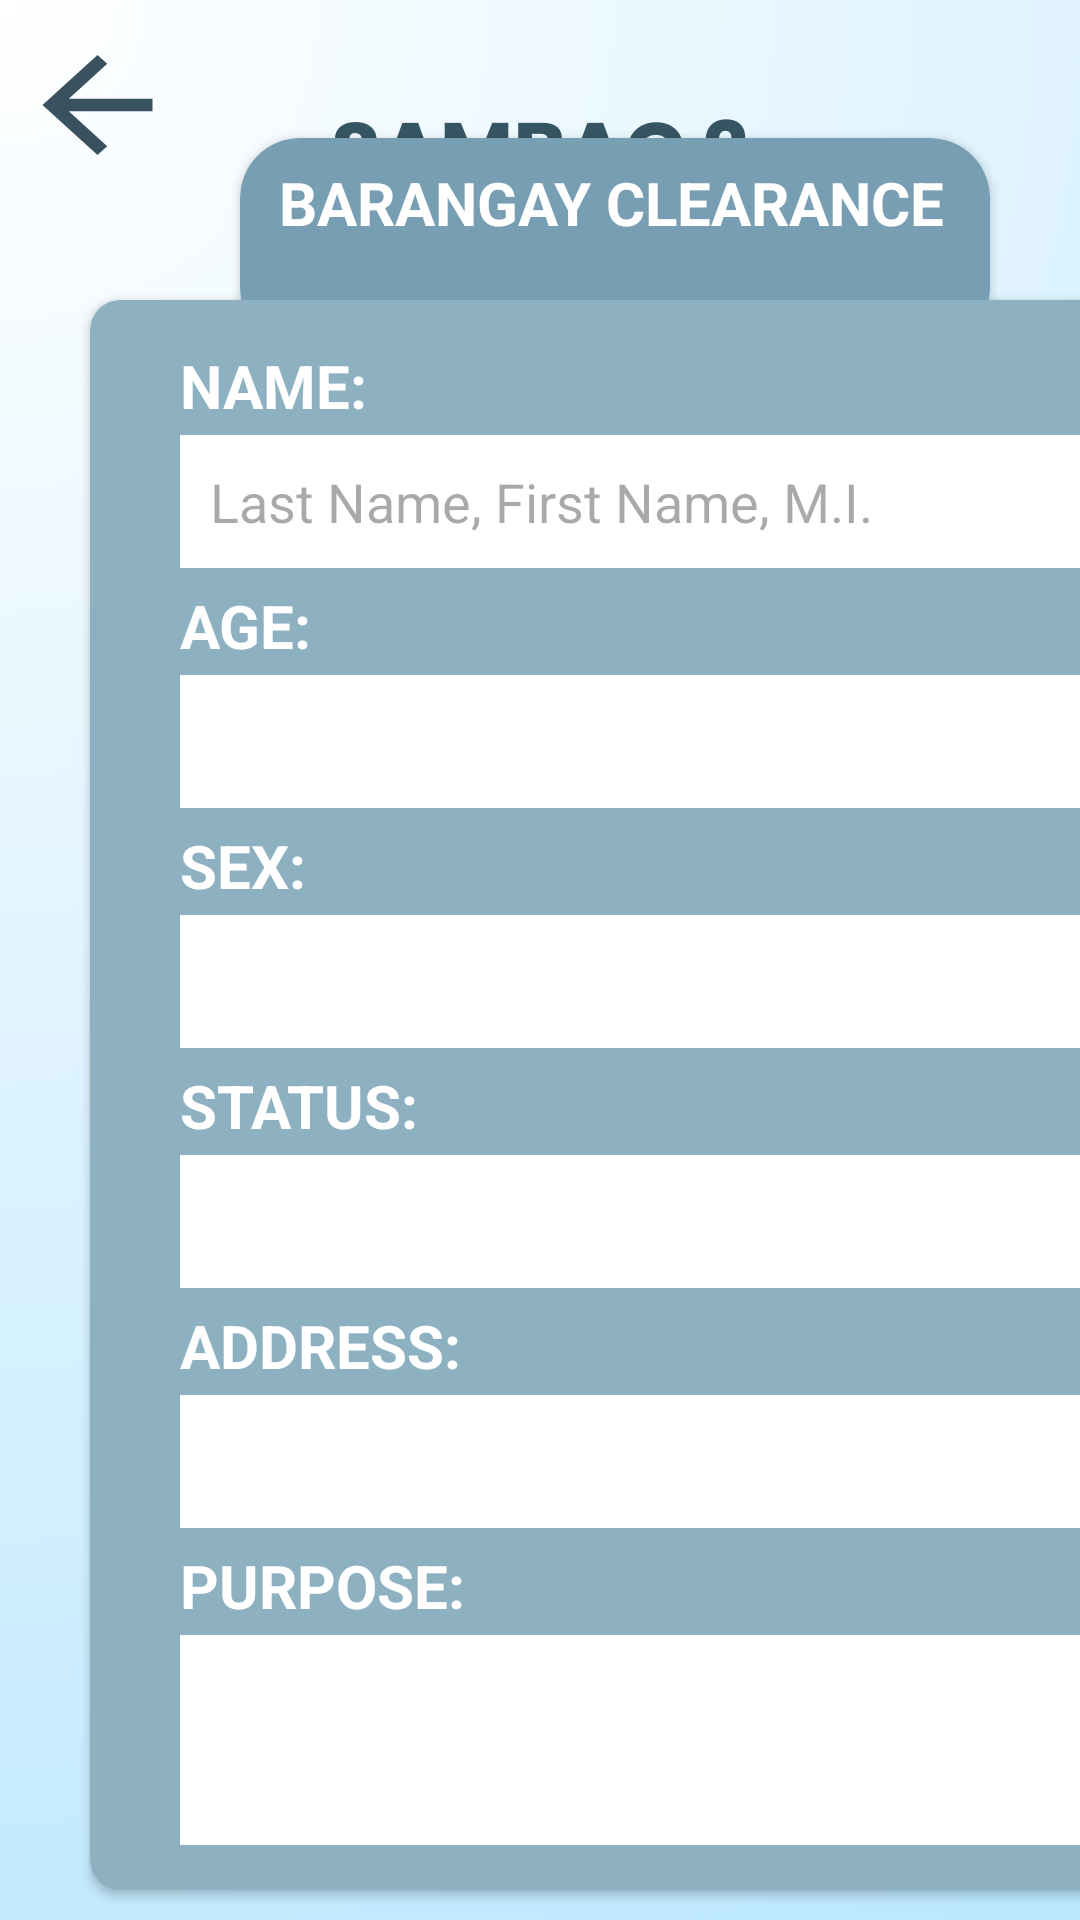

Point at icon controls on the screen. Image size 1080 x 1920, points as point (x, y).
back: point (98, 105)
